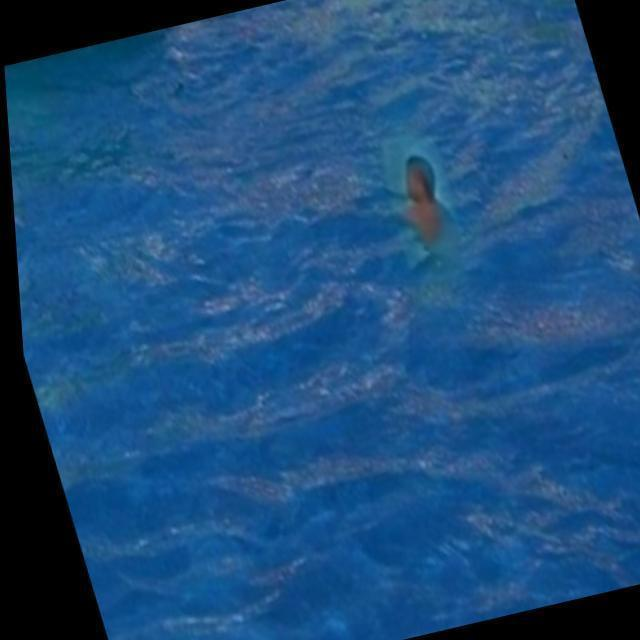swimming: (382, 139, 474, 240)
